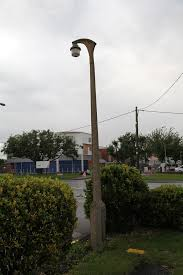light_pole: (78, 37, 108, 260)
